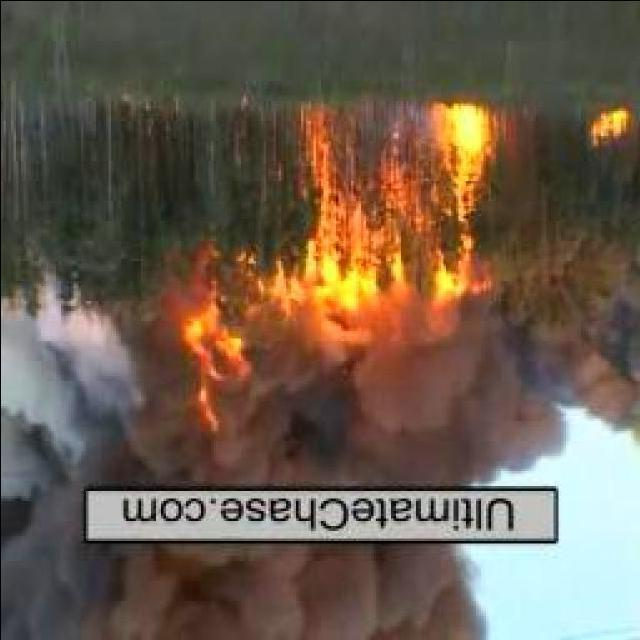Fire: (292, 83, 513, 290), (166, 292, 256, 408), (586, 106, 638, 146)
